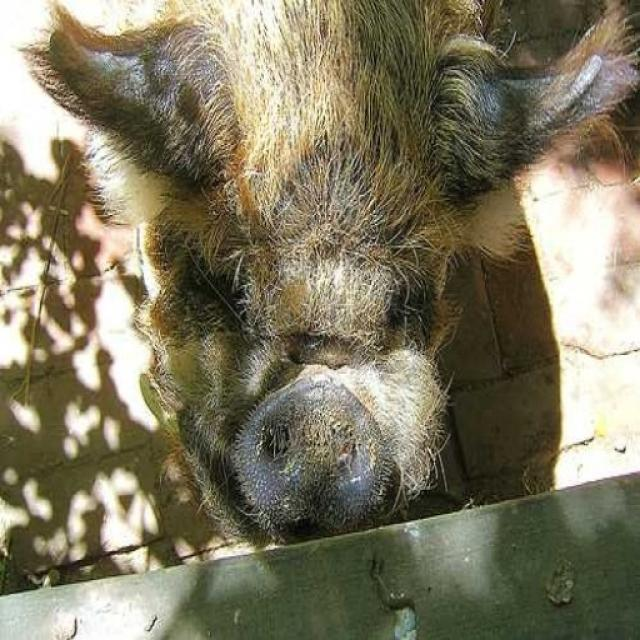pig: (57, 0, 601, 494)
